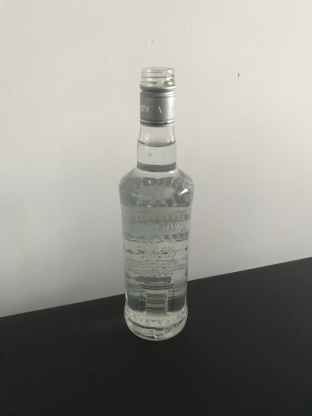nakretka: (137, 63, 177, 127)
